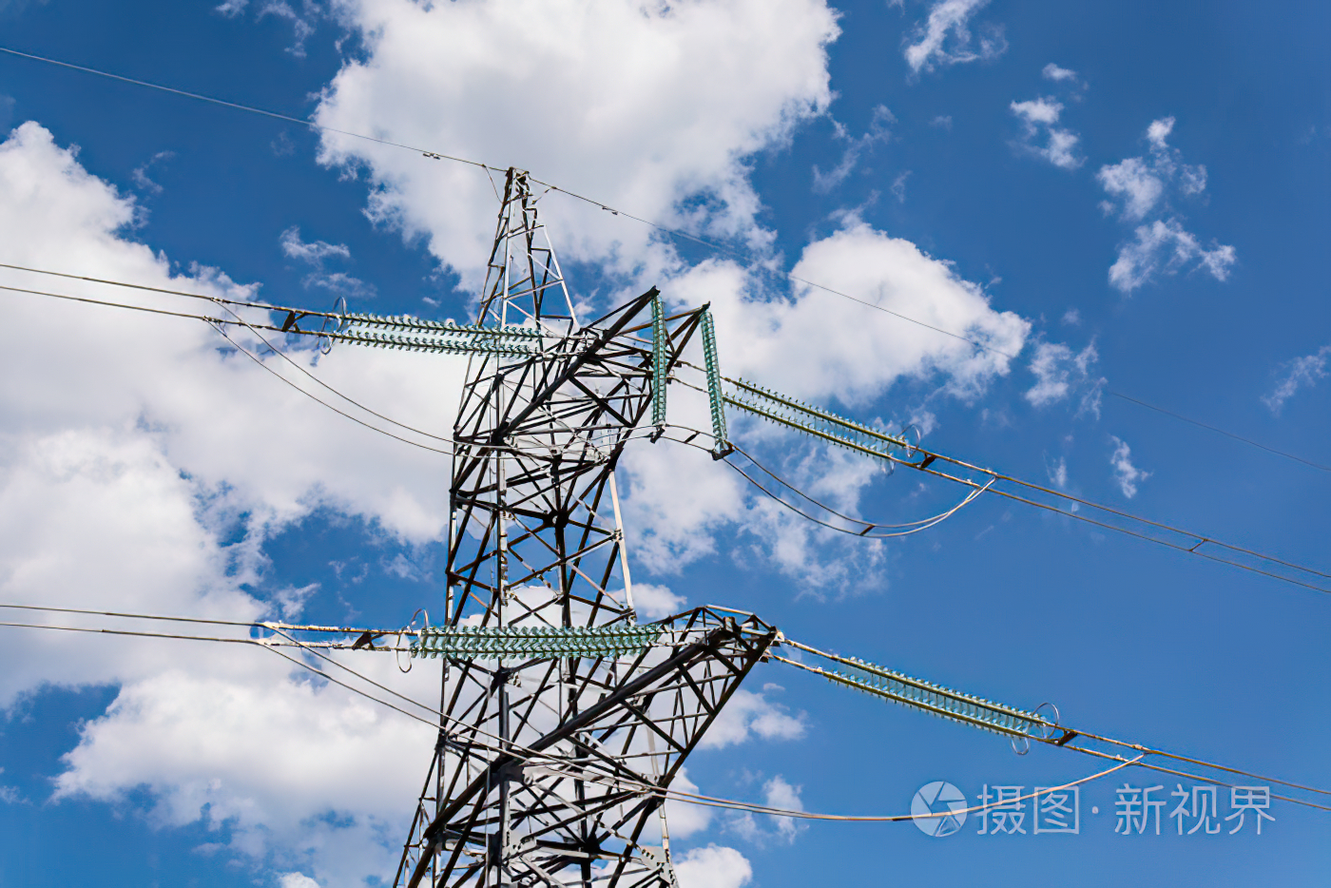insulator: (829, 649, 1047, 744), (725, 376, 902, 463), (324, 309, 543, 360), (406, 621, 665, 661), (692, 304, 729, 447), (641, 295, 668, 426)
